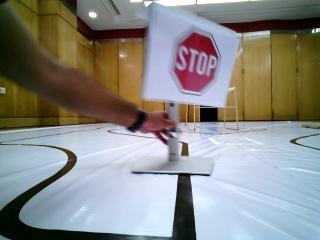stop: (148, 10, 226, 97)
